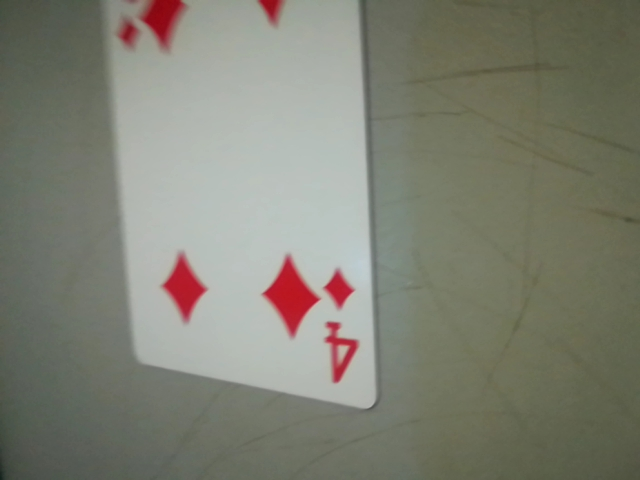fk 4: (308, 252, 370, 399)
